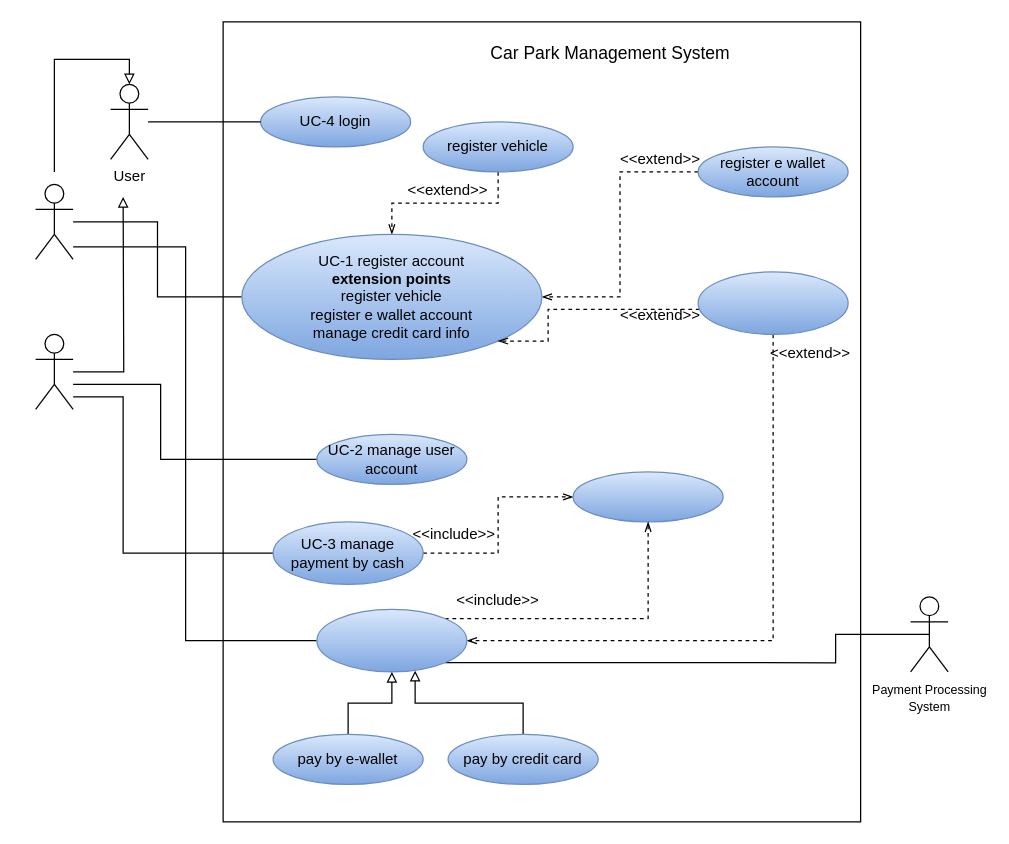
The diagram is 1009 pixels wide and 844 high, and some of its shapes have lost their labels. The shapes that lost their labels are listed below. From the top down, each one's centre as x and y in pixels, then its label:
At (x=53, y=221): "Customer".
At (x=772, y=302): "manage credit card info".
At (x=53, y=371): "Parking Attendant".
At (x=647, y=496): "calculate total fee".
At (x=391, y=640): "UC-20 pay by e-payment".
